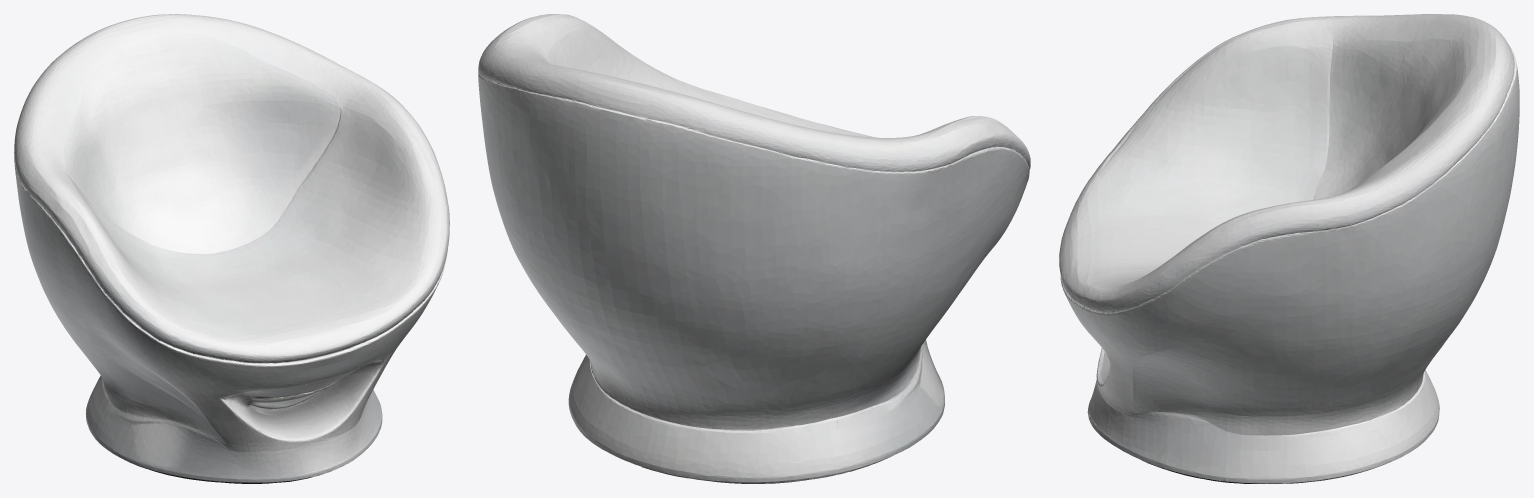
The model's file is cadeira-branca.glb.
3 views of the same model, side by side, from view 1: azimuth 30°, elevation 25°; view 2: azimuth 150°, elevation 25°; view 3: azimuth 270°, elevation 25° (orthographic). The views are drawn at different scales.
Visible parts, largest first — view 1: Object_4; view 2: Object_4; view 3: Object_4.
Boxes of the visible parts, box(x1,y1,x2,y2) form: Object_4: box(14, 14, 449, 483); Object_4: box(478, 14, 1030, 483); Object_4: box(1059, 14, 1519, 483).
Size of the model in its own units: 1 by 0.8567 by 0.9714.
1 material, 1 textured.
